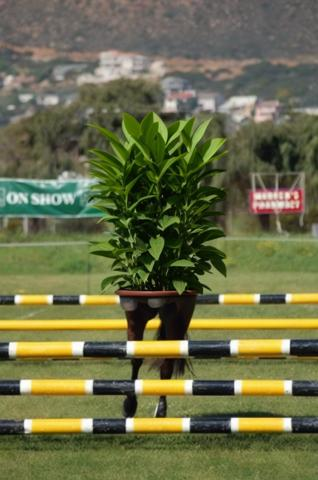horse: (107, 133, 198, 424)
pottedplant: (88, 112, 226, 298)
